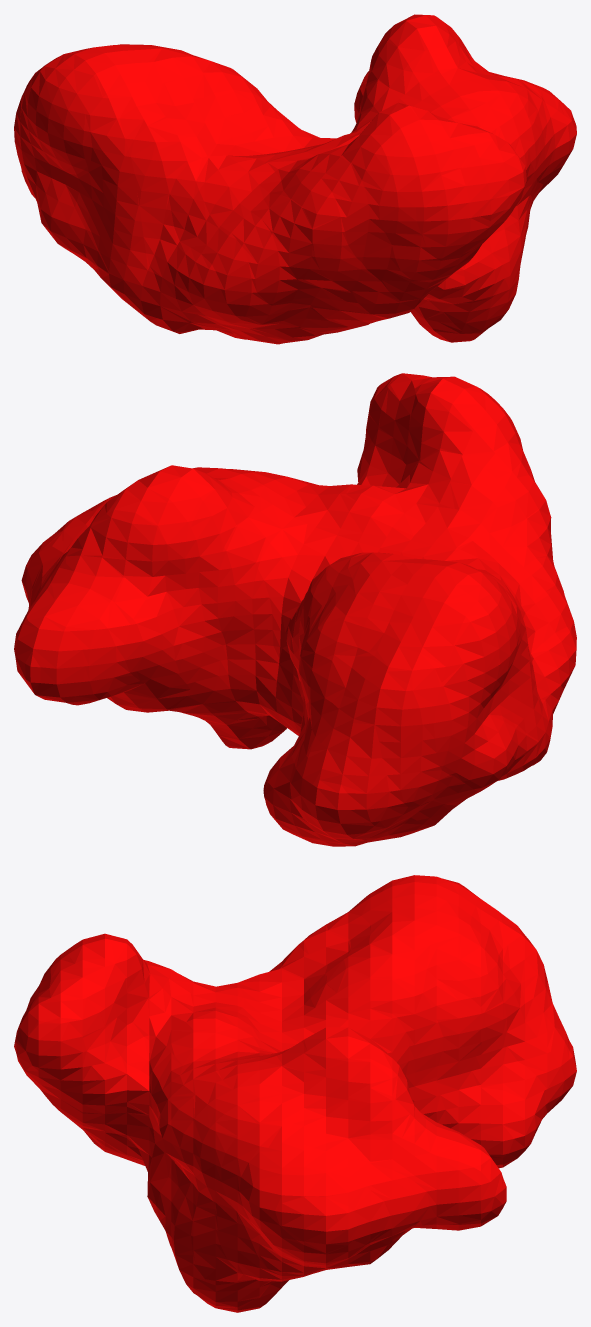
Rendered from zapD_coarse.dae.
3 views of the same model, one above another, from view 1: azimuth 30°, elevation 25°; view 2: azimuth 150°, elevation 25°; view 3: azimuth 270°, elevation 25° (orthographic). The views are drawn at different scales.
Parts seen in each view (by area): view 1: zapD; view 2: zapD; view 3: zapD.
Part boxes in pixels (left/top/right/bottom): zapD: left=14, top=14, right=576, bottom=344; zapD: left=14, top=373, right=576, bottom=846; zapD: left=14, top=875, right=576, bottom=1312.
Bounding box in the file's own units: 67.12 × 41.56 × 67.05.
